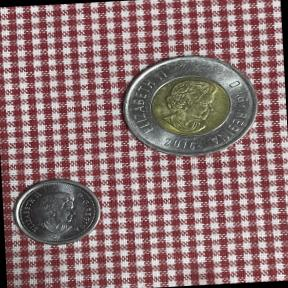Canada-10cent-B: (9, 173, 106, 248)
Canada-2Dollar-B: (114, 50, 266, 168)
